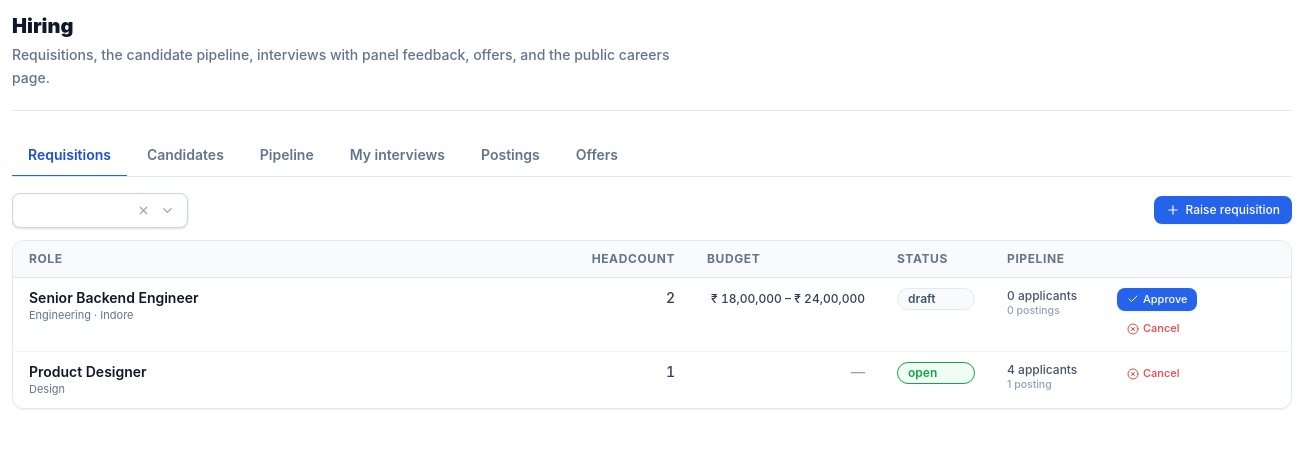
Test case: requisitions › surfaces the server's self-approval refusal rather than swallowing it
Click the button "Approve" at (1157, 299), box [1117,288,1198,311]
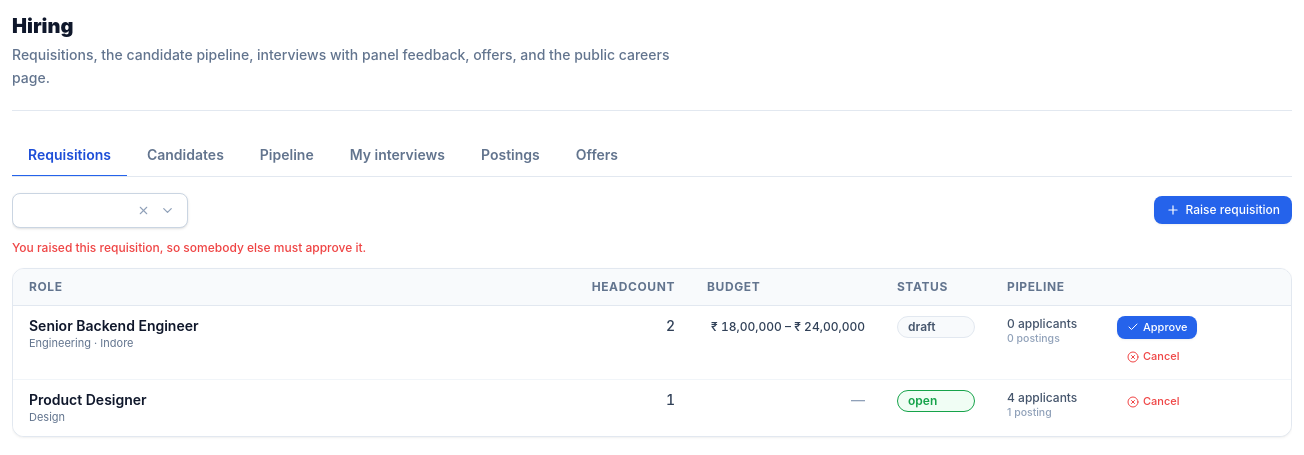
Expected: the message shows "somebody else must approve it", [12,240,366,254]
